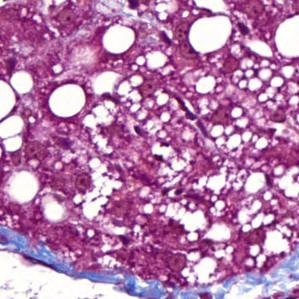steatosis: (187, 9, 231, 58), (47, 83, 89, 118), (100, 23, 136, 58)
